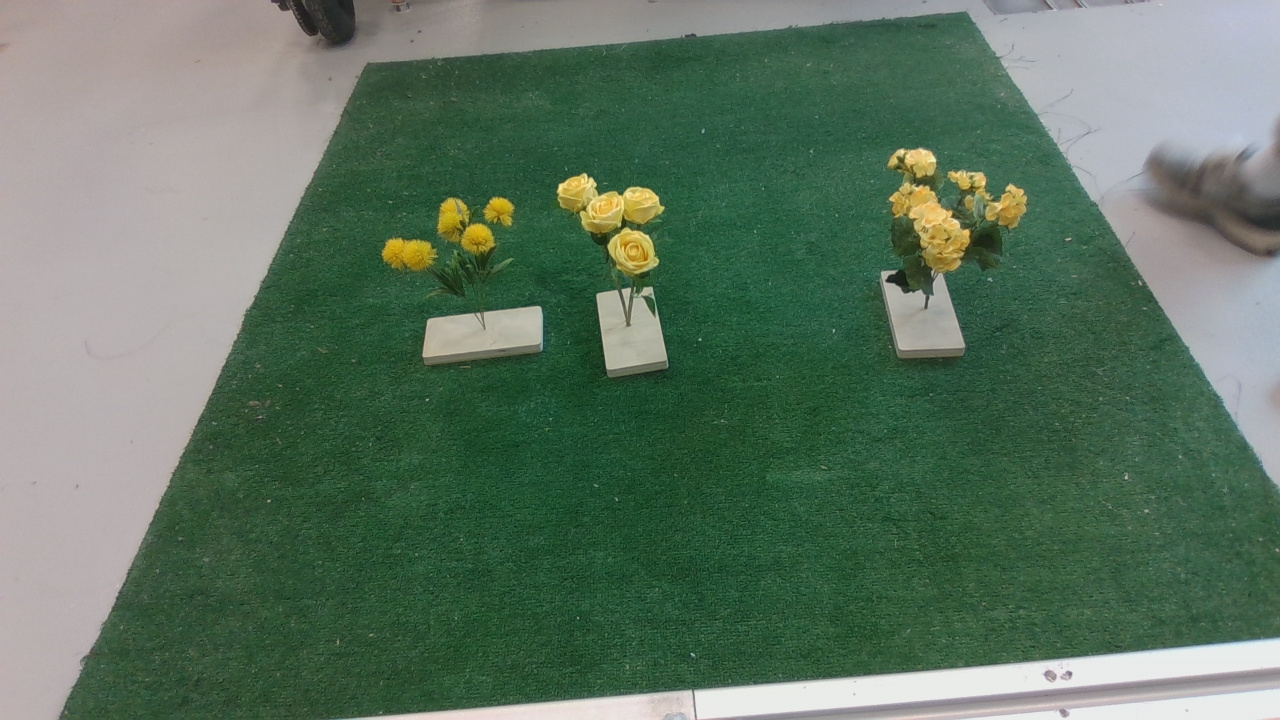dandelion: (376, 195, 534, 315)
geranium: (873, 134, 1042, 306)
rose: (551, 165, 681, 327)
